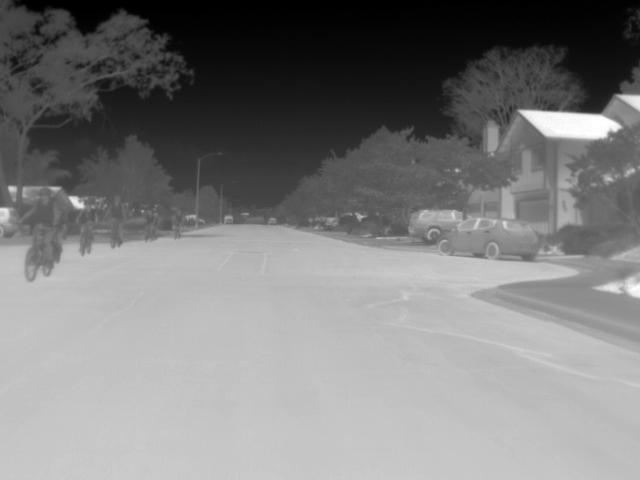car: (437, 214, 539, 263), (406, 207, 468, 244), (222, 212, 236, 225), (267, 213, 280, 225)
person: (17, 186, 60, 265), (74, 198, 102, 247), (105, 195, 127, 243), (142, 202, 161, 236), (169, 209, 184, 235)
